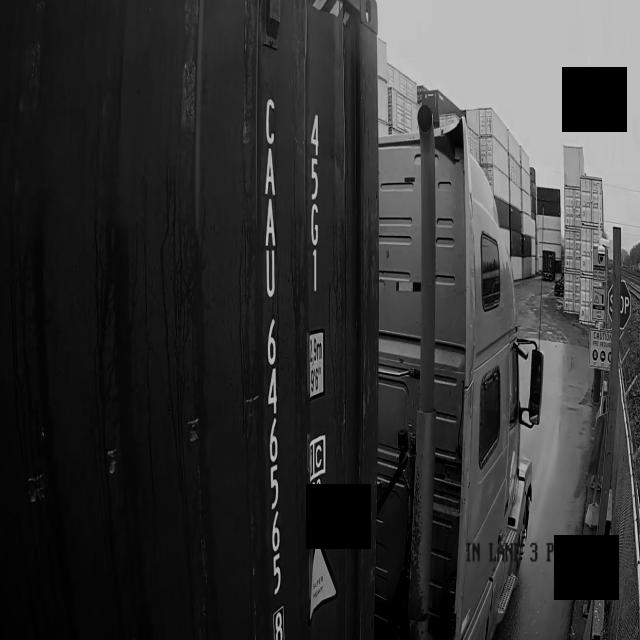container_side_no: (257, 87, 296, 640)
truck_with_container: (0, 0, 543, 640)
